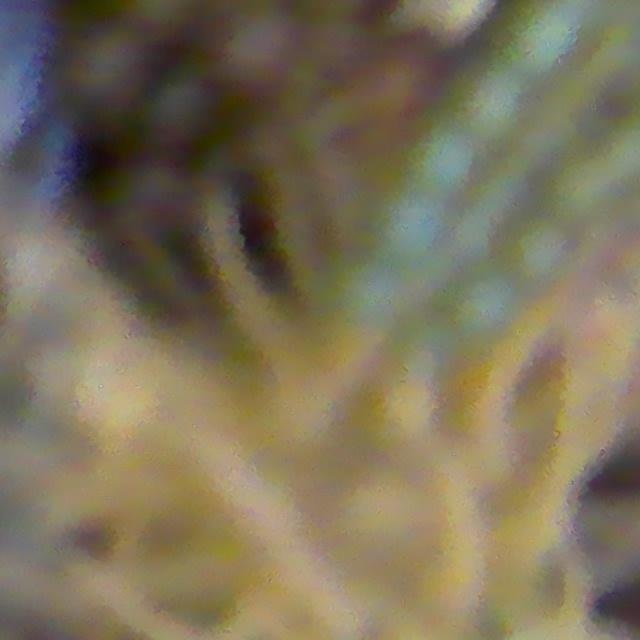SeaGrape: (67, 27, 149, 111), (221, 3, 299, 86), (374, 189, 451, 265), (408, 125, 478, 198), (453, 269, 523, 340), (461, 74, 527, 146), (506, 218, 574, 286), (146, 74, 215, 141)
